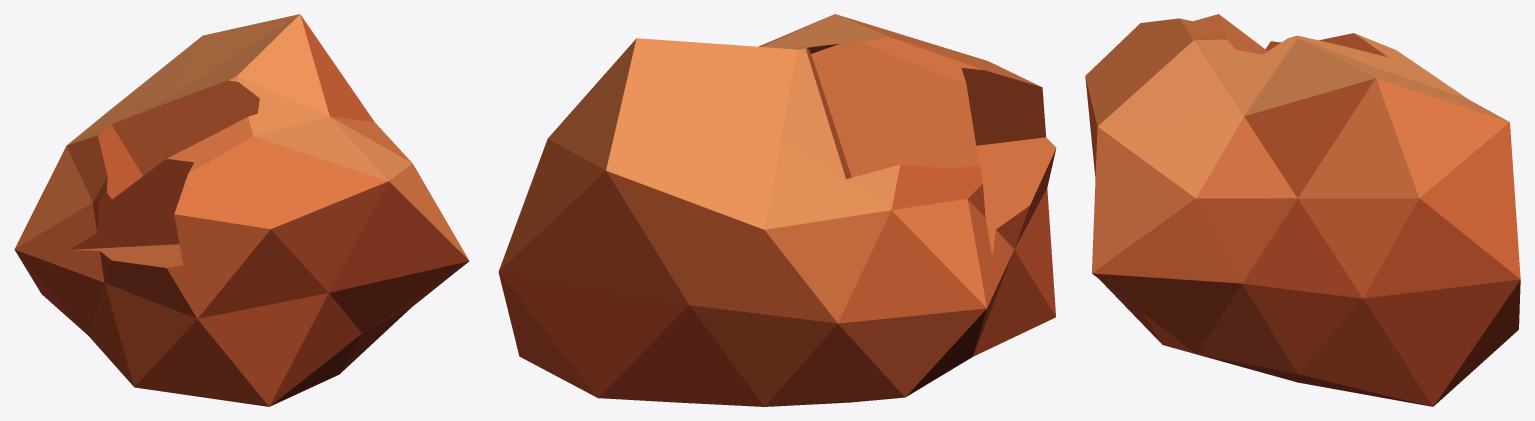
Rendered from SM_BOULDER_04.fbx.
3 views of the same model, side by side, from view 1: azimuth 30°, elevation 25°; view 2: azimuth 150°, elevation 25°; view 3: azimuth 270°, elevation 25° (orthographic). The views are drawn at different scales.
Visible parts, largest first — view 1: BOULDER_04; view 2: BOULDER_04; view 3: BOULDER_04.
Boxes of the visible parts, x1,y1,x2,y2 form: BOULDER_04: (14,14,469,406); BOULDER_04: (498,14,1056,406); BOULDER_04: (1085,14,1520,406).
Size of the model in its own units: 2.02 by 1.86 by 1.4.
